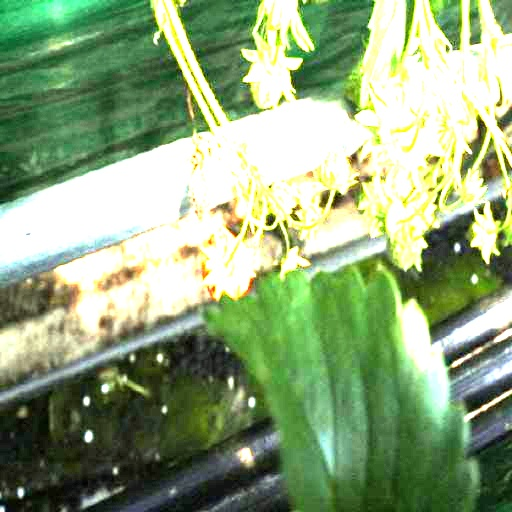Gray Mold: (184, 135, 224, 221)
